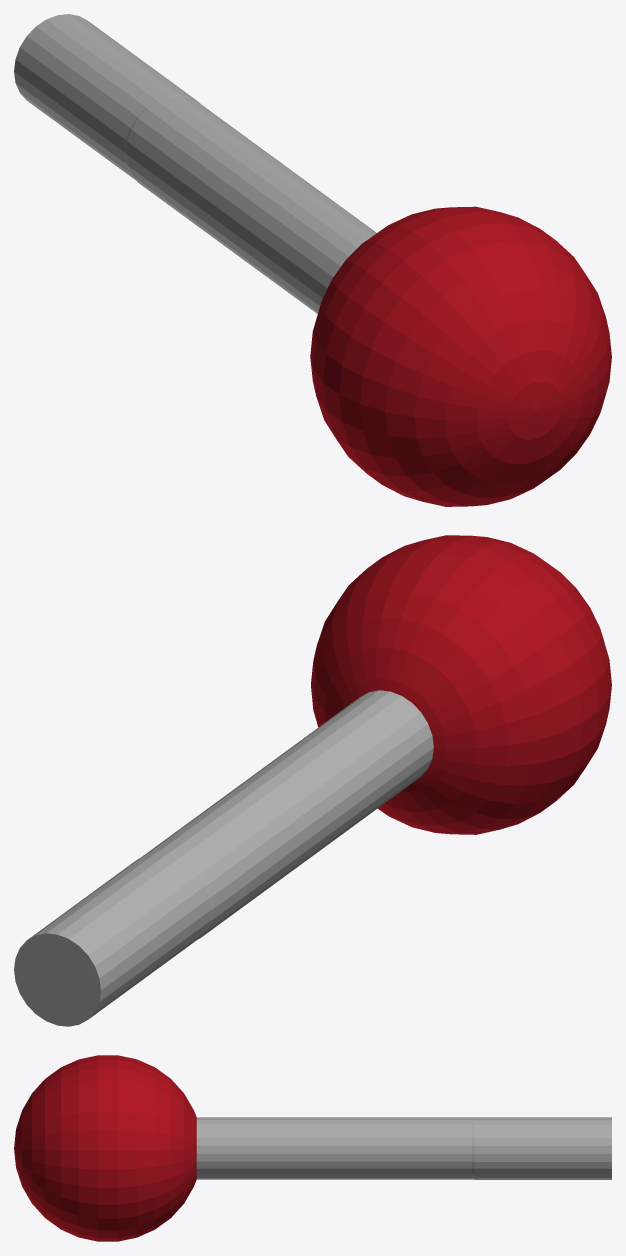
Rendered from lever.dae.
3 views of the same model, one above another, from view 1: azimuth 30°, elevation 25°; view 2: azimuth 150°, elevation 25°; view 3: azimuth 270°, elevation 25° (orthographic). The views are drawn at different scales.
Visible parts, largest first — view 1: WHEELTASK_004; view 2: WHEELTASK_004; view 3: WHEELTASK_004.
Boxes of the visible parts, box(x1,y1,x2,y2) form: WHEELTASK_004: box(14, 14, 611, 506); WHEELTASK_004: box(14, 535, 611, 1026); WHEELTASK_004: box(14, 1055, 611, 1241).
Bounding box in the file's own units: 7.58 × 24.22 × 7.54.
